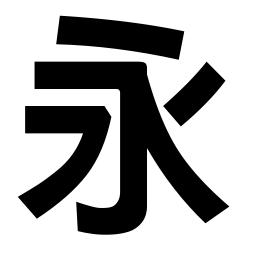D: (55, 14, 187, 50)
HSZ: (112, 59, 149, 101)
Hs: (32, 58, 83, 91)
Ne: (191, 192, 232, 225)
PNc: (141, 104, 191, 150)
PZe: (16, 183, 60, 221)
Ps: (192, 59, 227, 99)
SG: (73, 197, 150, 237)
Sm: (117, 153, 148, 183)
TPZ: (74, 104, 112, 146)
Ts: (22, 103, 55, 136)
